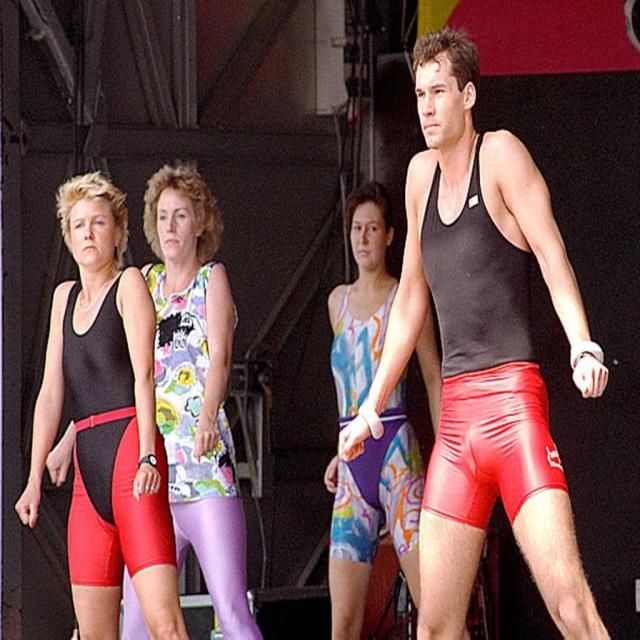Face: (408, 43, 481, 155), (150, 175, 205, 274), (59, 185, 118, 272), (345, 200, 392, 273)
